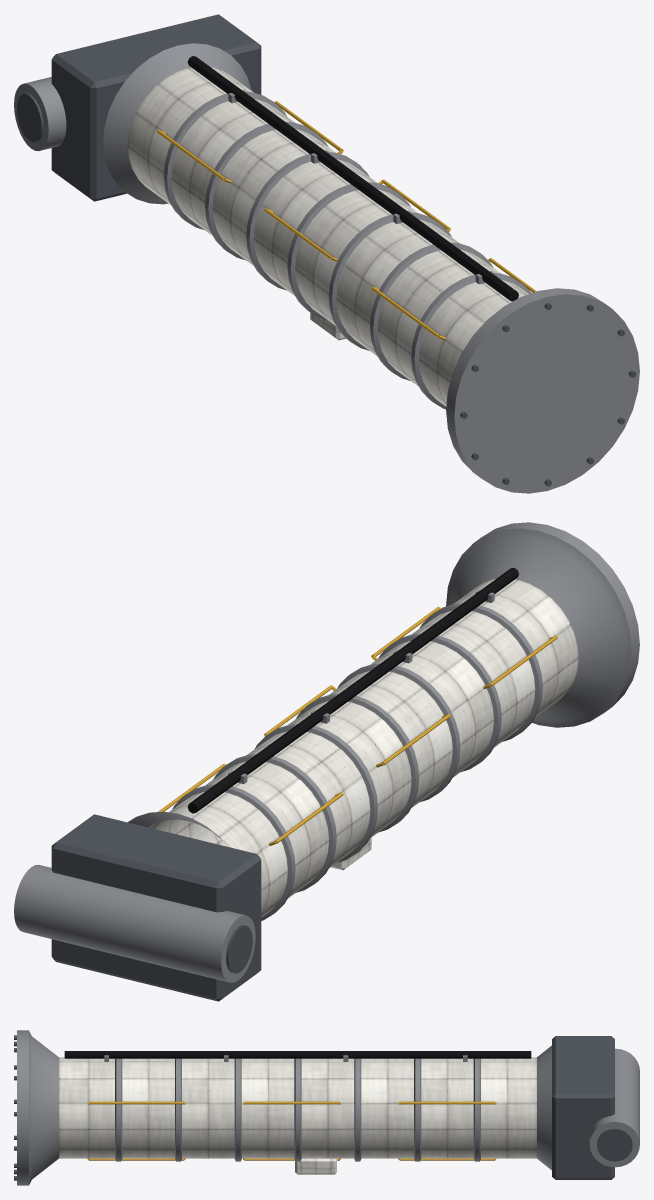
The model's file is docking_arm.obj.
The picture shows the model from 3 angles, top to bottom: view 1: azimuth 30°, elevation 25°; view 2: azimuth 150°, elevation 25°; view 3: azimuth 270°, elevation 25°; orthographic projection. The views are drawn at different scales.
Visible parts, largest first — view 1: docking_arm; view 2: docking_arm; view 3: docking_arm.
Part boxes in pixels (x1,y1,x2,y2): docking_arm: (14,14,639,493); docking_arm: (14,522,639,1001); docking_arm: (14,1030,639,1185).
Bounding box in the file's own units: 2.96 × 2.6 × 10.47.
5 materials, 1 textured.
